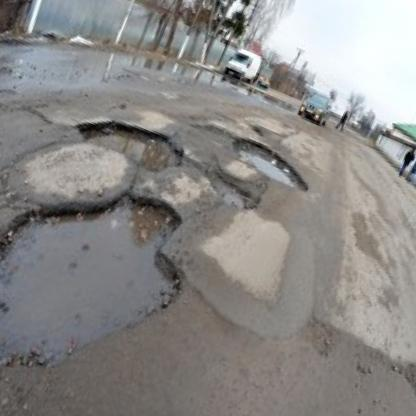pothole: (0, 139, 210, 416), (68, 100, 191, 186), (223, 131, 319, 198), (199, 165, 257, 214)
